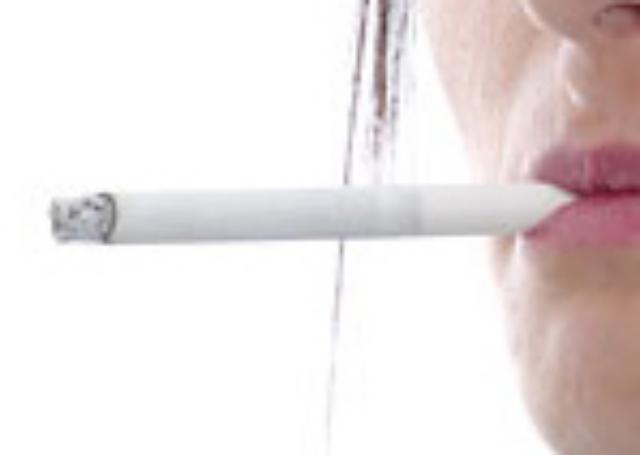Cigarette: (49, 182, 581, 244)
